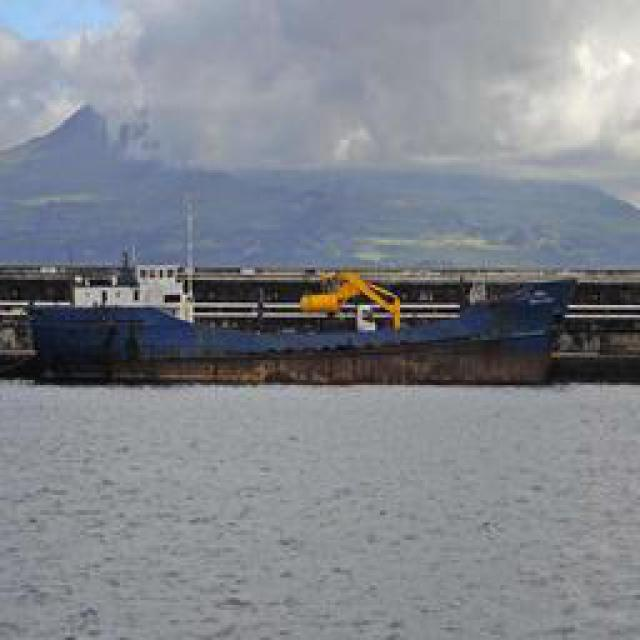Ship: (38, 278, 573, 376)
